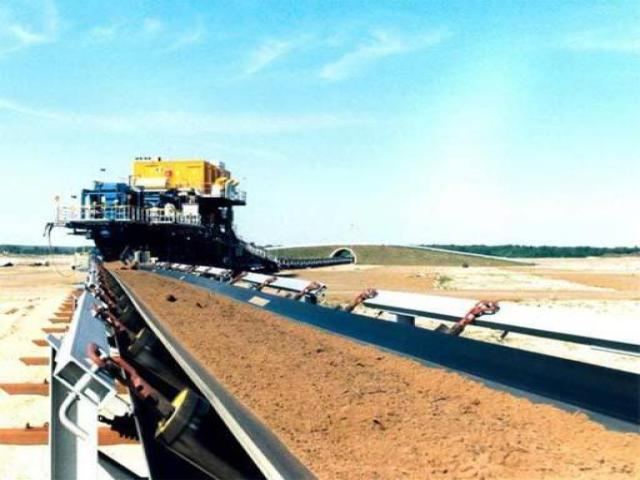conveyor: (66, 256, 639, 479)
